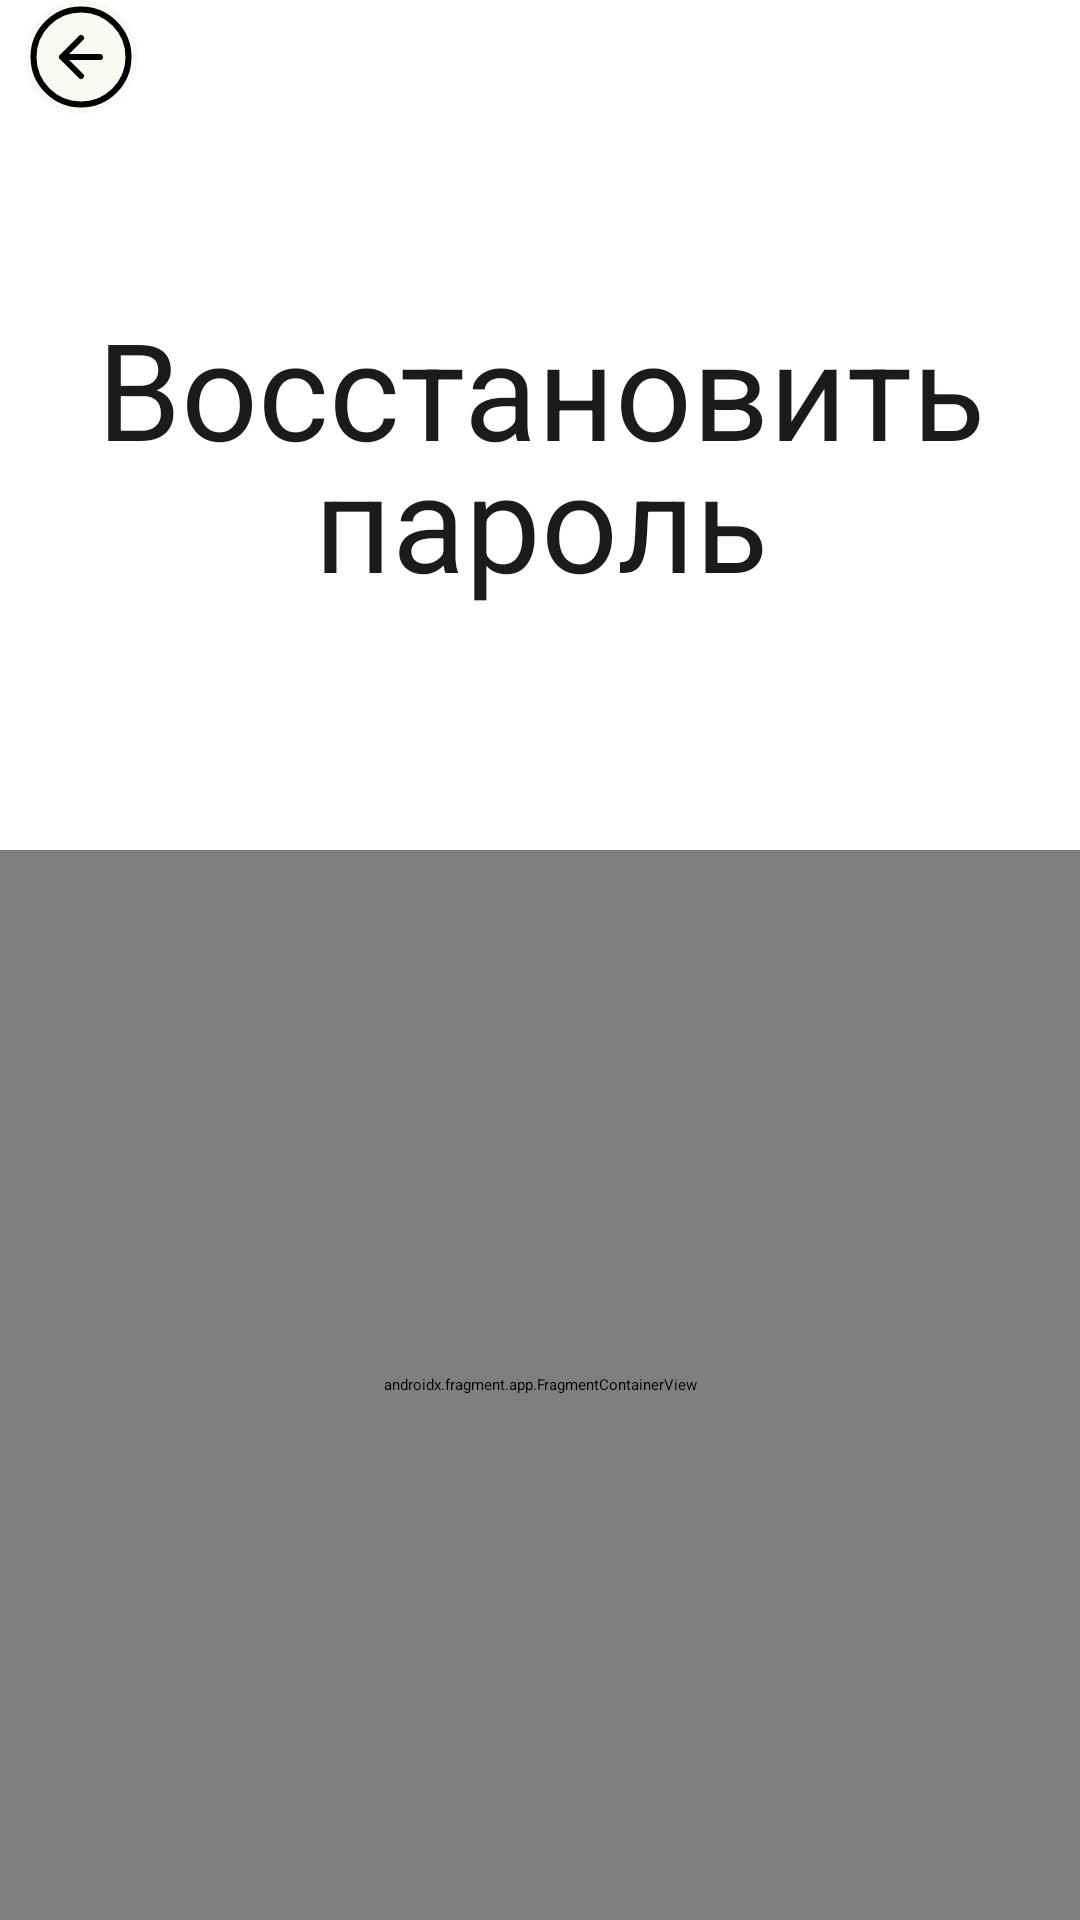

Named icons in this screenshot (1080x1920) and their centers, point (x, y):
Иконка возврата на экран авторизации: point (81, 57)
